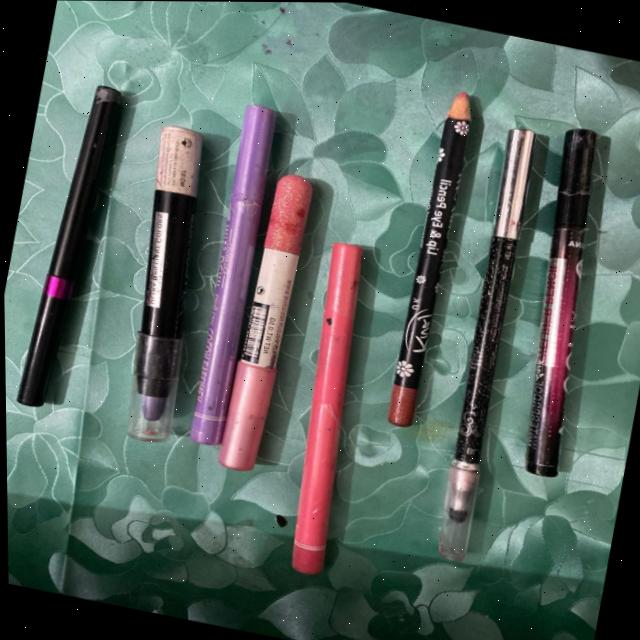eye liner: (415, 107, 559, 562), (493, 116, 640, 499), (1, 69, 143, 427)
kajal: (92, 112, 235, 452)
lip liner: (249, 211, 403, 592), (364, 82, 498, 443), (167, 87, 288, 455), (205, 166, 342, 491)
